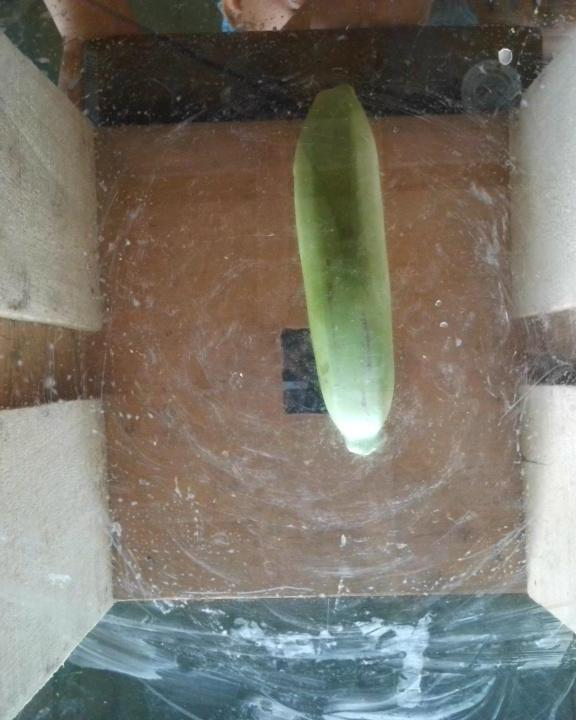CLASS B: (285, 84, 416, 456)
Class A: (323, 274, 349, 358), (355, 311, 382, 384), (354, 381, 376, 410)
